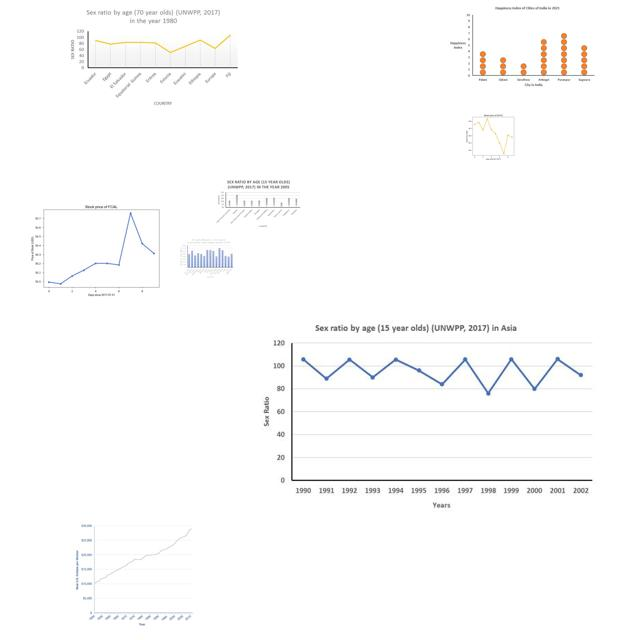Graph: (256, 315, 598, 516), (67, 7, 240, 108), (25, 197, 174, 299), (72, 518, 200, 626), (446, 4, 596, 91), (215, 178, 302, 229), (459, 111, 526, 161), (179, 238, 234, 279)
